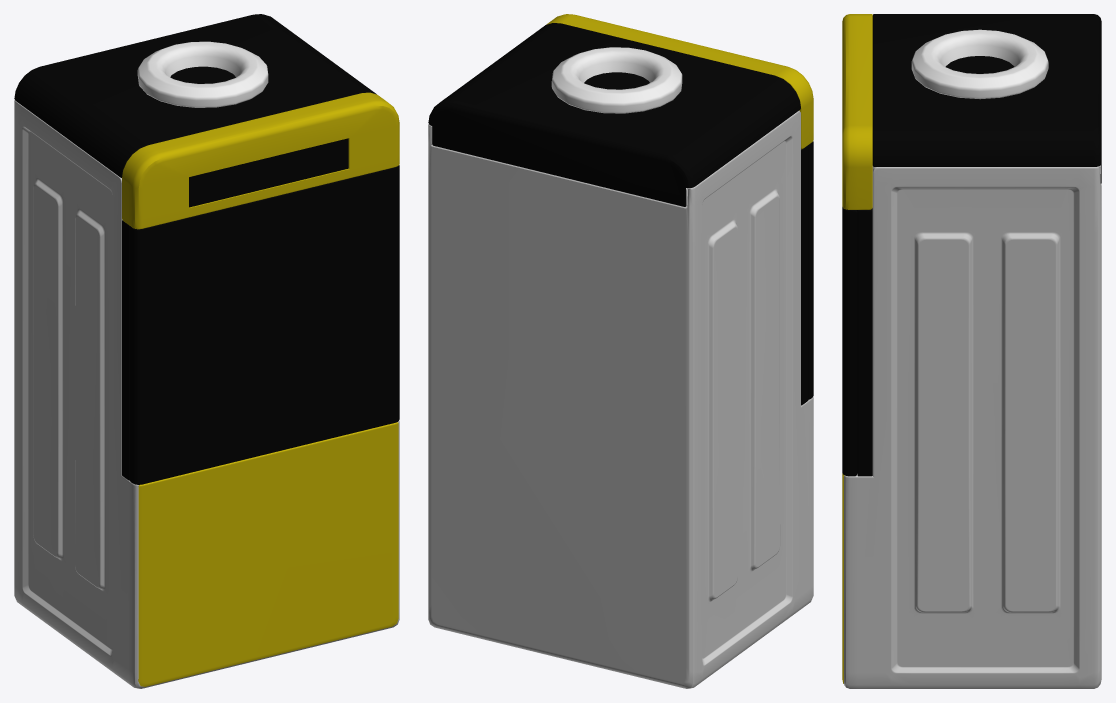
The model's file is WaterDispenser.fbx.
3 renders of one model, left to right at view 1: azimuth 30°, elevation 25°; view 2: azimuth 150°, elevation 25°; view 3: azimuth 270°, elevation 25°, orthographic. The views are drawn at different scales.
Parts seen in each view (by area): view 1: polySurface76; view 2: polySurface76; view 3: polySurface76.
Part boxes in pixels (box(x1,y1,x2,y2)): polySurface76: box(14, 14, 399, 688); polySurface76: box(428, 14, 813, 688); polySurface76: box(842, 14, 1101, 688).
Bounding box in the file's own units: 42.03 × 82.48 × 34.
